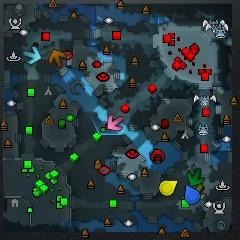p1: (185, 185, 200, 204)
p4: (159, 180, 178, 196)
x1: (108, 114, 124, 131)
x2: (195, 184, 206, 200)
x3: (23, 47, 41, 64)
x4: (187, 168, 204, 186)
x5: (48, 50, 65, 67)
